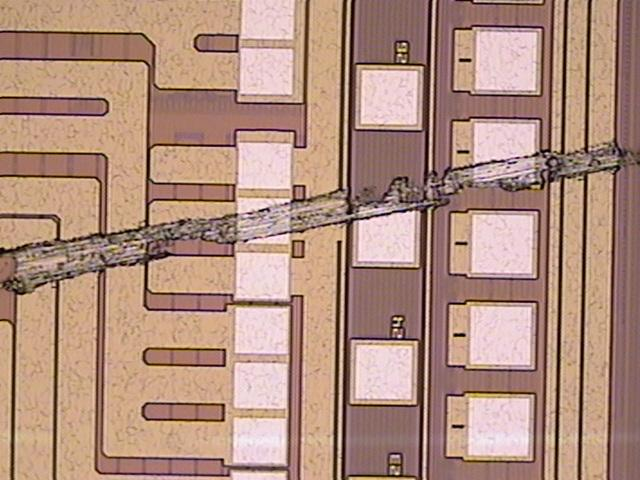SCRATCH: (1, 113, 640, 305)
